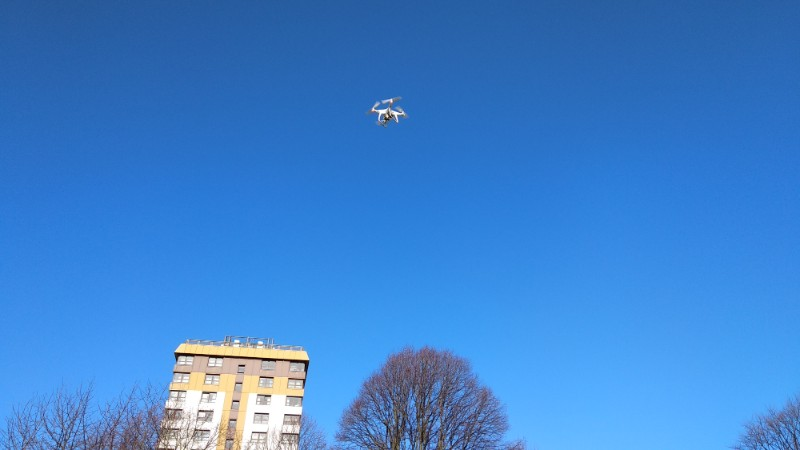drone: (366, 94, 410, 130)
